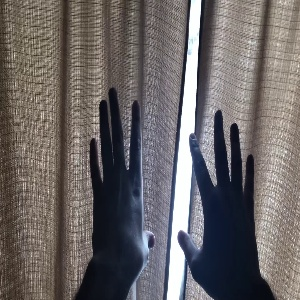hand: (178, 110, 262, 286), (90, 88, 156, 271)
